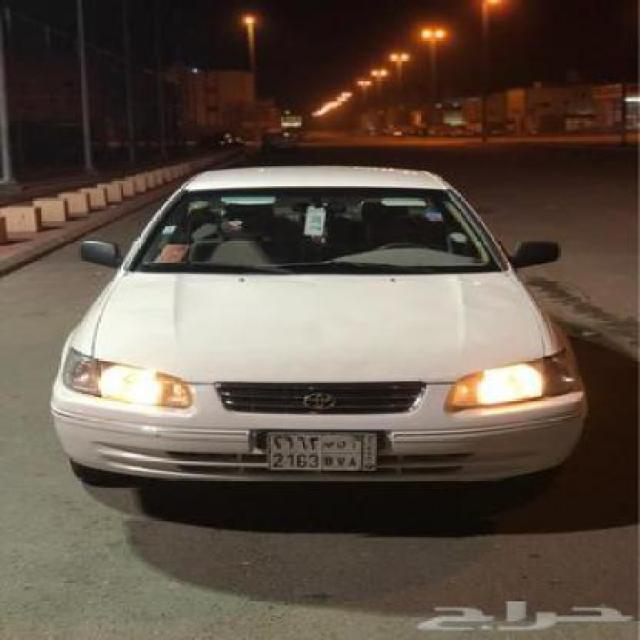license_plate: (265, 430, 383, 475)
